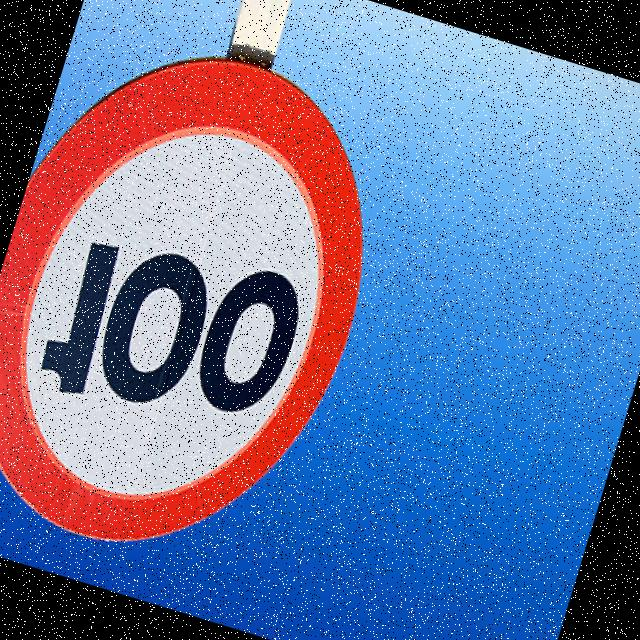speed_limit_100: (0, 16, 416, 595)
